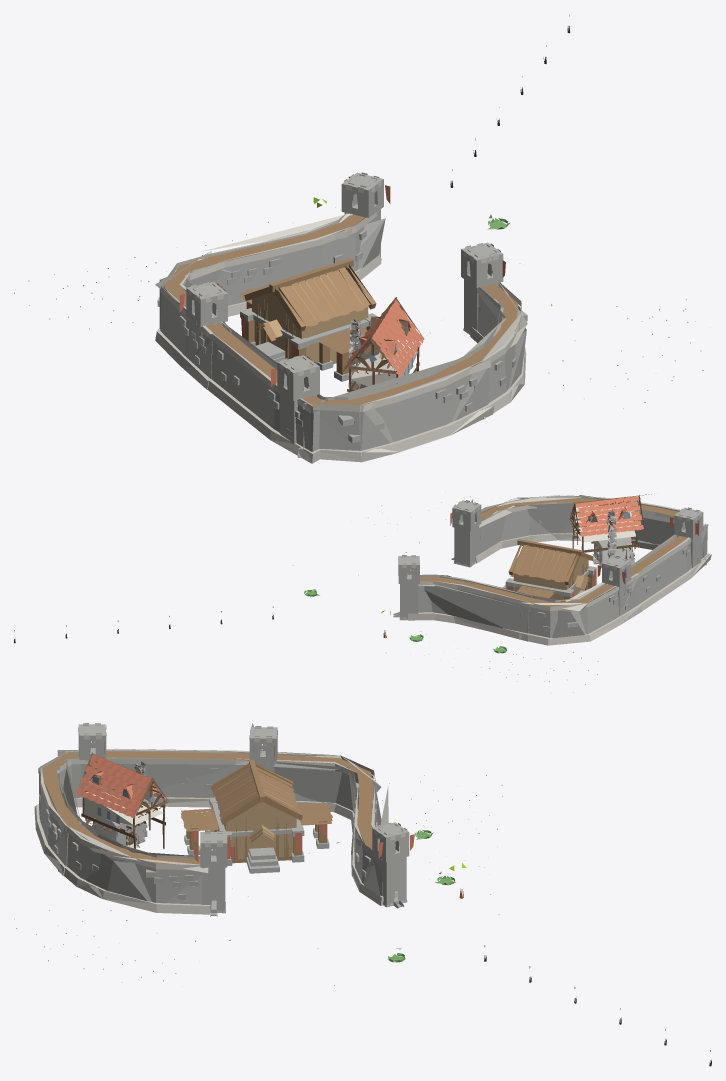
Rendered from chunk_0_0_lod2.glb.
3 renders of one model, top to bottom at view 1: azimuth 30°, elevation 25°; view 2: azimuth 150°, elevation 25°; view 3: azimuth 270°, elevation 25°, orthographic. The views are drawn at different scales.
Parts seen in each view (by area): view 1: Batched_chunk_0_0_lod2; view 2: Batched_chunk_0_0_lod2; view 3: Batched_chunk_0_0_lod2.
Part boxes in pixels (x1=…): Batched_chunk_0_0_lod2: x1=14, y1=14, x2=703, y2=463; Batched_chunk_0_0_lod2: x1=14, y1=493, x2=711, y2=692; Batched_chunk_0_0_lod2: x1=14, y1=723, x2=711, y2=1066.
Size of the model in its own units: 110 by 13.91 by 111.
Materials: 24 (1 with a texture image).
